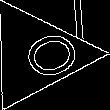O_SW: (0, 23, 75, 86)
